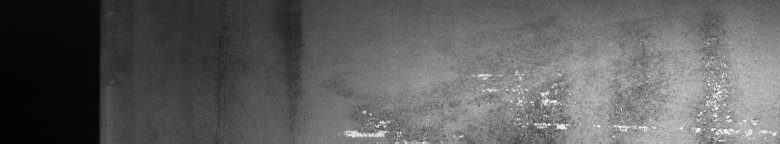hc: (473, 38, 738, 136)
